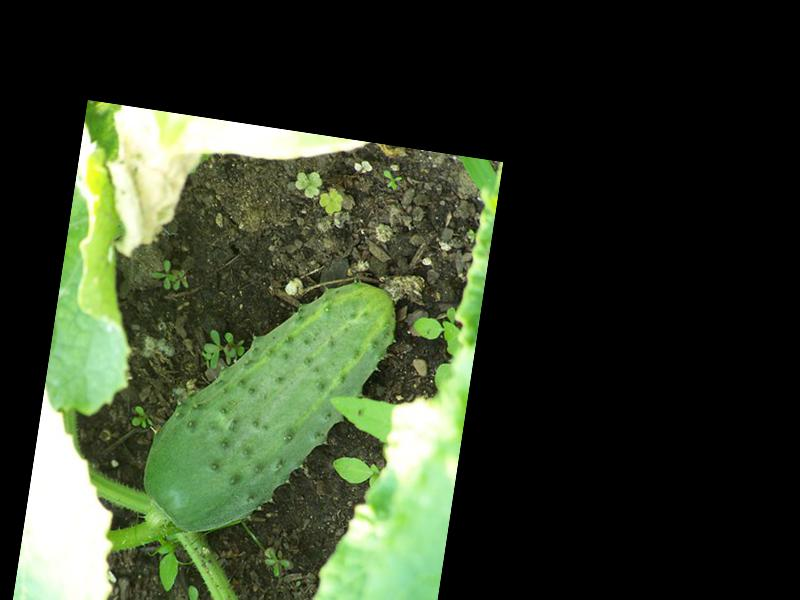Cucumber: (135, 255, 400, 559)
